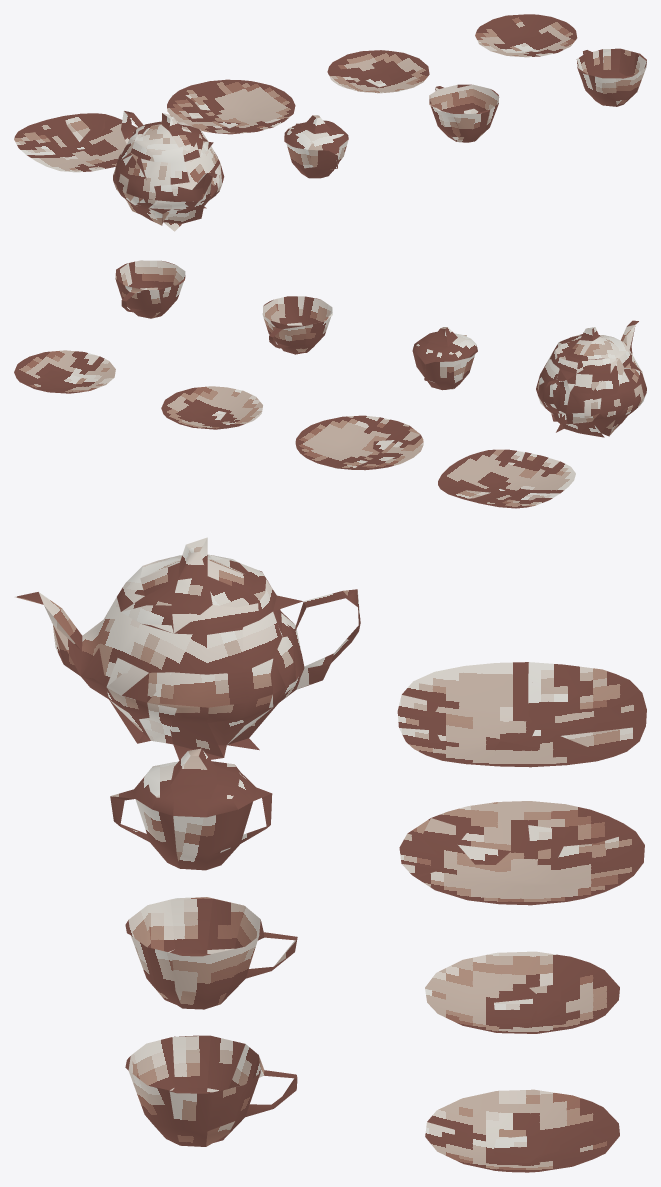
Rendered from tea_set_01.glb.
3 views of the same model, one above another, from view 1: azimuth 30°, elevation 25°; view 2: azimuth 150°, elevation 25°; view 3: azimuth 270°, elevation 25° (orthographic). The views are drawn at different scales.
Visible parts, largest first — view 1: mesh; view 2: mesh; view 3: mesh.
Boxes of the visible parts, <box> form: mesh: <box>14,14,646,231</box>; mesh: <box>14,260,646,508</box>; mesh: <box>15,537,646,1172</box>.
Size of the model in its own units: 0.9336 by 0.165 by 0.4919.
1 material, 1 textured.
